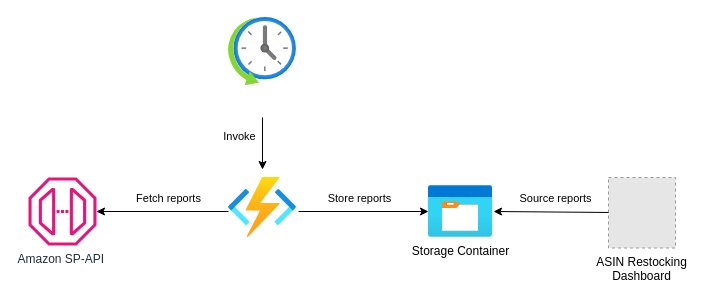
Image size: 704x300. Some labels were removed from this diagram. Grey dashed boxes stand in for pictures. The centre of each missing label's shape, as x and y in pixels:
Inventory report fetcher: [262,207]
Scheduler: [262,51]
